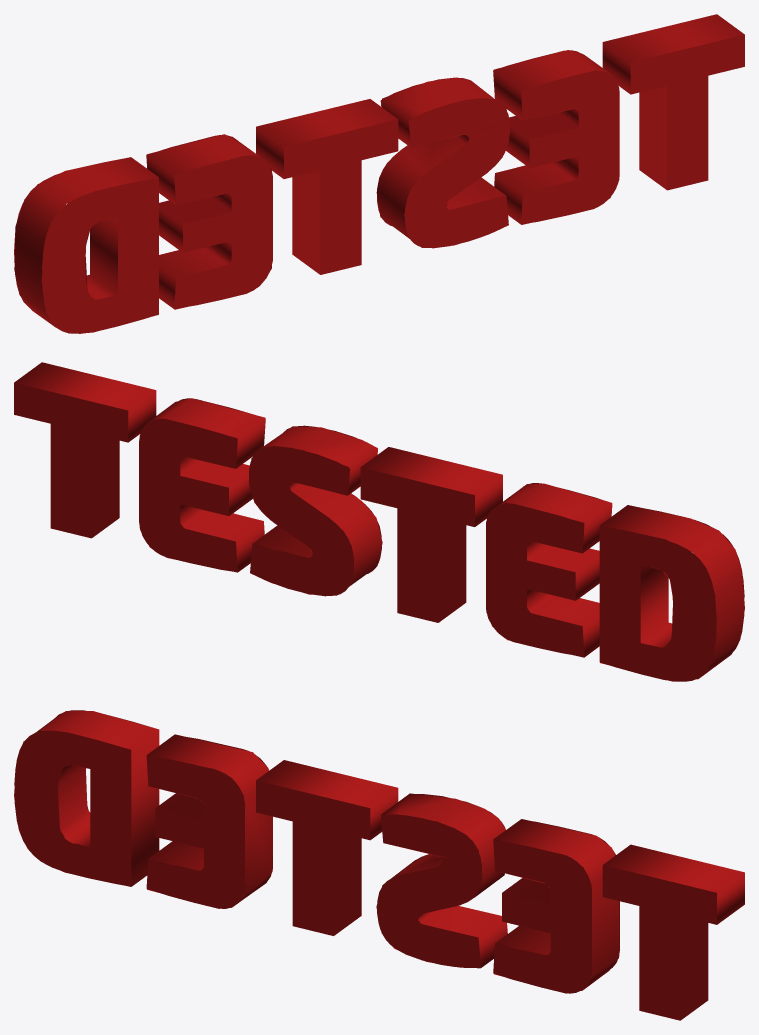
The model's file is tested.fbx.
3 renders of one model, top to bottom at view 1: azimuth 30°, elevation 25°; view 2: azimuth 150°, elevation 25°; view 3: azimuth 330°, elevation 25°, orthographic.
Parts seen in each view (by area): view 1: Text; view 2: Text; view 3: Text.
Part boxes in pixels (bbox=[...]): Text: bbox=[14, 14, 744, 333]; Text: bbox=[14, 362, 744, 681]; Text: bbox=[14, 710, 744, 1020].
Size of the model in its own units: 11.62 by 2.26 by 0.8.
